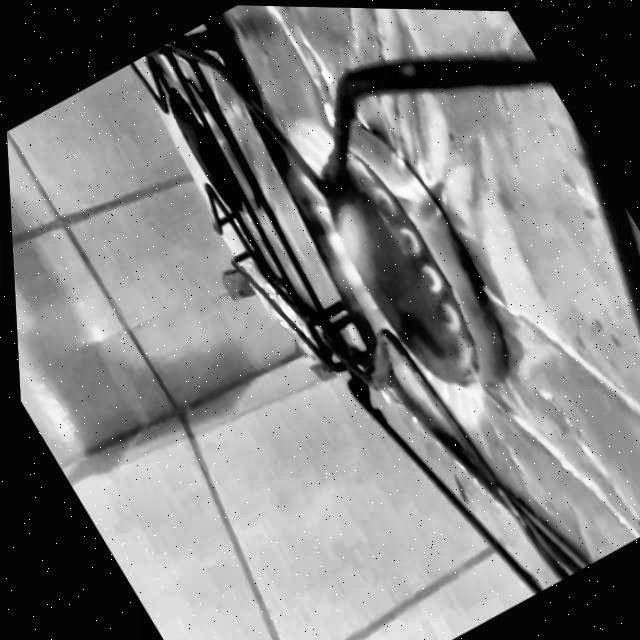Fire: (236, 88, 531, 466)
